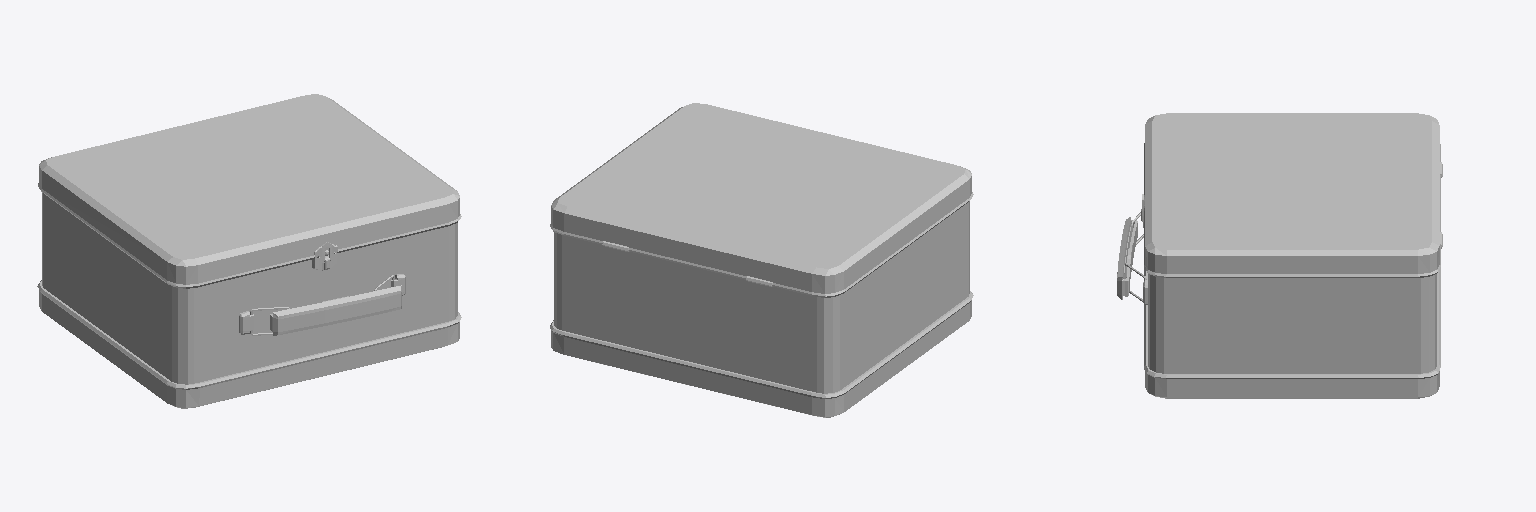
Rendered from Lunchbox.obj.
The picture shows the model from 3 angles: view 1: azimuth 30°, elevation 25°; view 2: azimuth 150°, elevation 25°; view 3: azimuth 270°, elevation 25°; orthographic projection.
Visible parts, largest first — view 1: LunchBox_low; view 2: LunchBox_low; view 3: LunchBox_low.
Boxes of the visible parts, x1,y1,x2,y2 form: LunchBox_low: [37, 94, 461, 408]; LunchBox_low: [550, 103, 973, 417]; LunchBox_low: [1117, 113, 1442, 398].
Size of the model in its own units: 8.58 by 4.18 by 8.28.